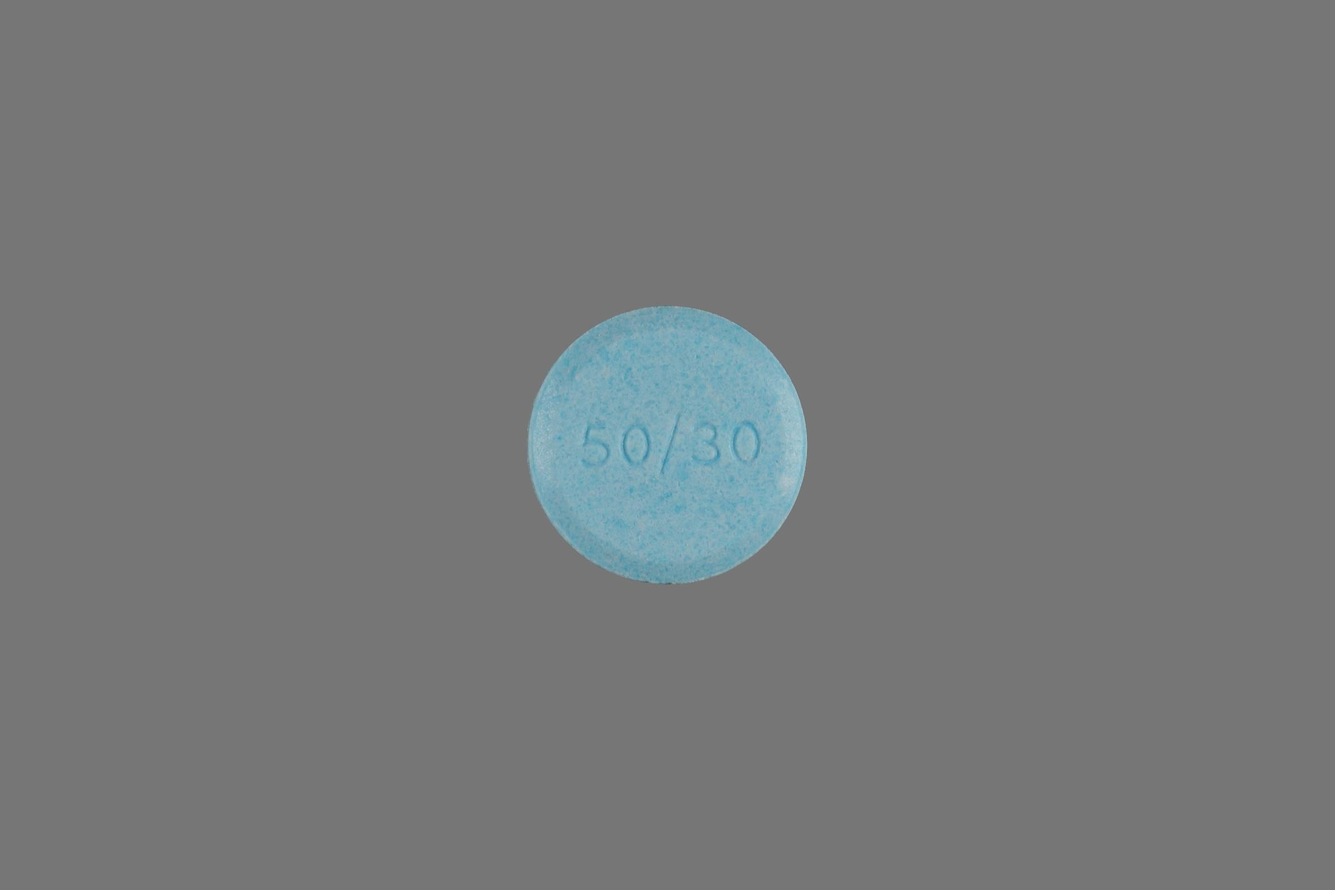Pill: (512, 295, 825, 604)
